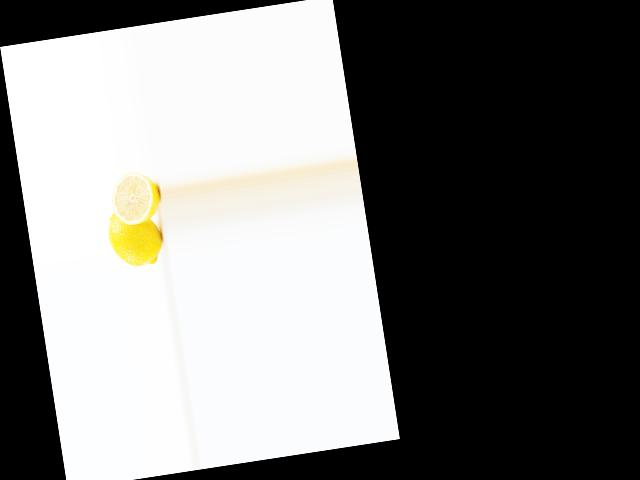lemon: (105, 199, 171, 271)
